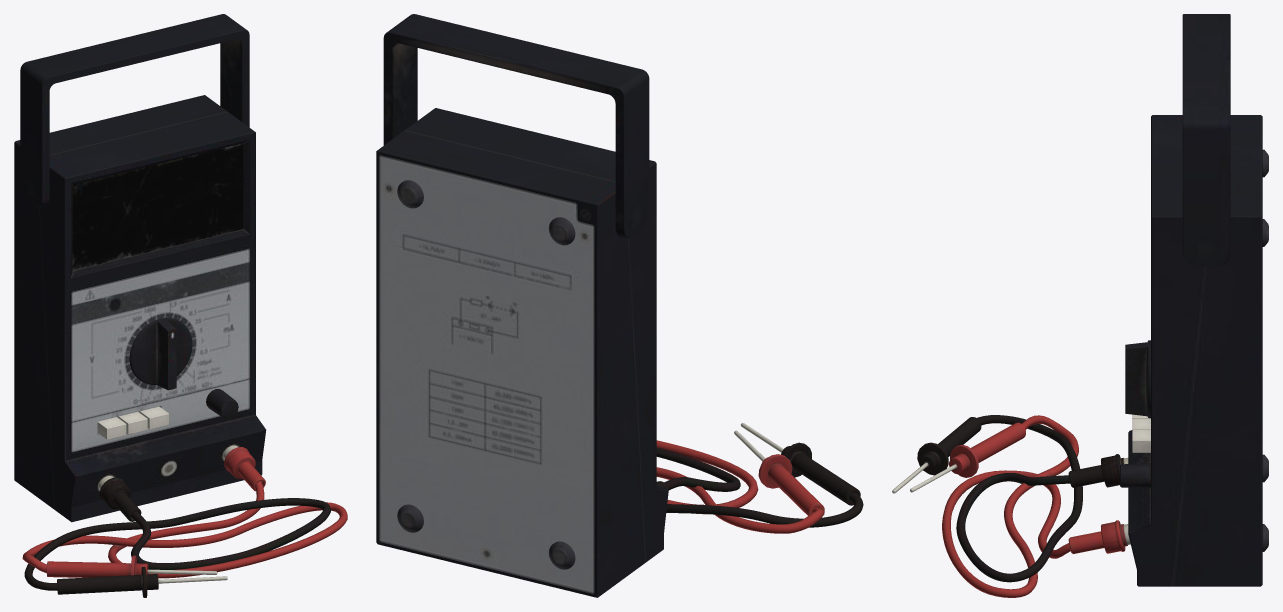
Rendered from retro_multimeter_1k.gltf.
3 renders of one model, left to right at view 1: azimuth 30°, elevation 25°; view 2: azimuth 150°, elevation 25°; view 3: azimuth 270°, elevation 25°, orthographic. The views are drawn at different scales.
Parts seen in each view (by area): view 1: retro_multimeter_LOD0, retro_multimeter_cables_LOD0, retro_multimeter_handle_LOD0, retro_multimeter_dial_LOD0, retro_multimeter_buttons_LOD0, retro_multimeter_knob_LOD0; view 2: retro_multimeter_LOD0, retro_multimeter_handle_LOD0, retro_multimeter_cables_LOD0; view 3: retro_multimeter_LOD0, retro_multimeter_cables_LOD0, retro_multimeter_handle_LOD0, retro_multimeter_dial_LOD0, retro_multimeter_knob_LOD0, retro_multimeter_buttons_LOD0.
Boxes of the visible parts, <box> form: retro_multimeter_LOD0: <box>14,95,266,522</box>; retro_multimeter_cables_LOD0: <box>22,445,347,597</box>; retro_multimeter_handle_LOD0: <box>20,14,249,207</box>; retro_multimeter_dial_LOD0: <box>129,318,192,390</box>; retro_multimeter_buttons_LOD0: <box>97,406,168,439</box>; retro_multimeter_knob_LOD0: <box>206,389,238,418</box>; retro_multimeter_LOD0: <box>376,108,668,597</box>; retro_multimeter_handle_LOD0: <box>383,14,649,238</box>; retro_multimeter_cables_LOD0: <box>656,423,863,533</box>; retro_multimeter_LOD0: <box>1128,115,1268,586</box>; retro_multimeter_cables_LOD0: <box>892,415,1130,597</box>; retro_multimeter_handle_LOD0: <box>1182,14,1230,266</box>; retro_multimeter_dial_LOD0: <box>1125,340,1150,418</box>; retro_multimeter_knob_LOD0: <box>1120,463,1150,487</box>; retro_multimeter_buttons_LOD0: <box>1132,414,1150,452</box>.
Bounding box in the file's own units: 0.216 × 0.2786 × 0.2026.
2 materials, 2 textured.
